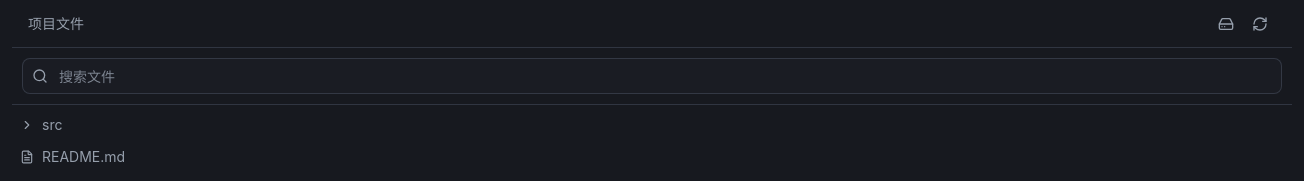
Test case: FileTree 按需大小统计 › 目录可以复制到系统剪贴板，并提供目录删除操作
The image size is (1304, 181).
Later steps or results of the test are not shown.
Right-click the button "src" at [27, 125], box [12,109,1292,141]
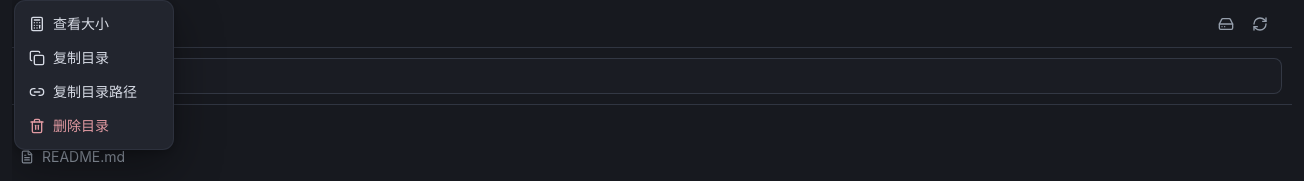
Check: the text "复制目录" is shown, box [29,49,109,66]
Check: the text "删除目录" is shown, box [29,117,109,134]
